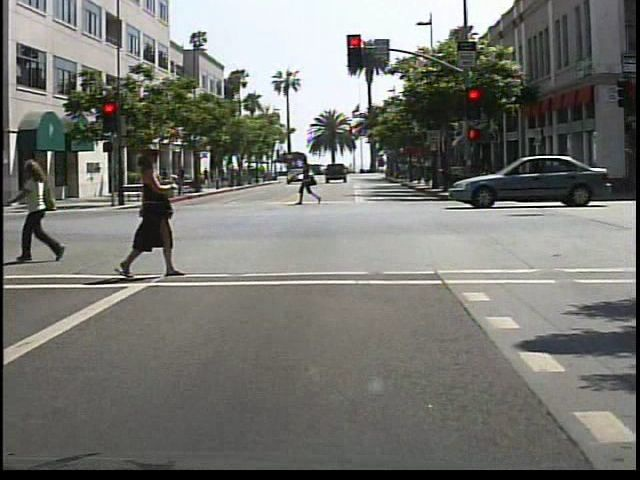person: (118, 136, 197, 278), (21, 158, 76, 267), (296, 157, 325, 206), (1, 145, 5, 286), (173, 163, 190, 193)
